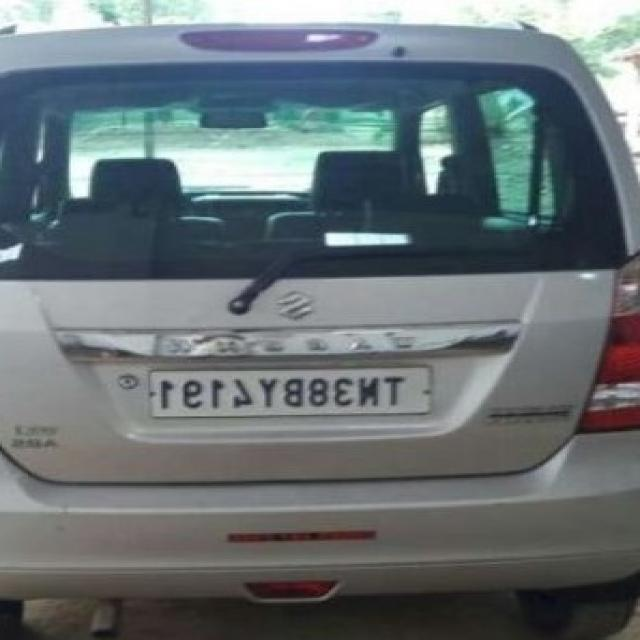number-plate: (119, 334, 462, 428)
